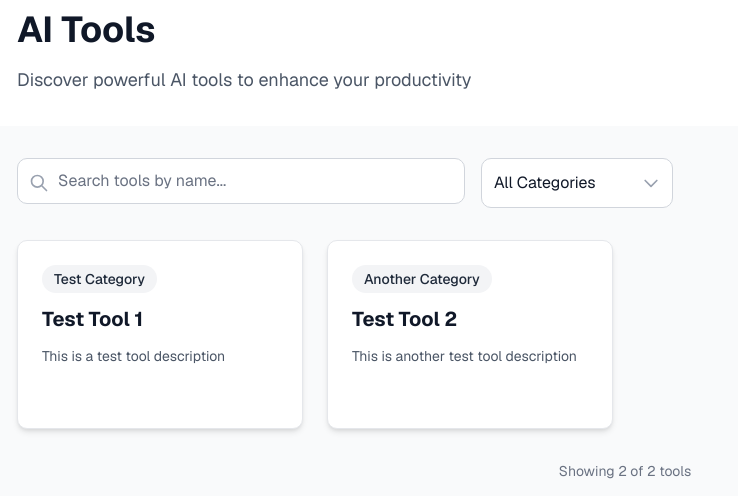
Test: ToolsPage › shows clear search button when search term exists
This screenshot has width=738, height=496.
// Type in search input using fireEvent
In the field with placeholder "Search tools by name...": (241, 181) [17,158,465,204], type "test"
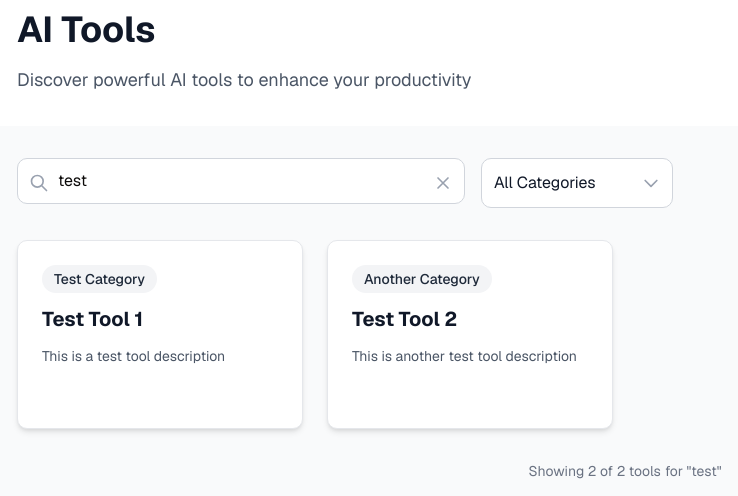
Now the button named "Clear search term: test" is shown, box [433,158,465,208]
